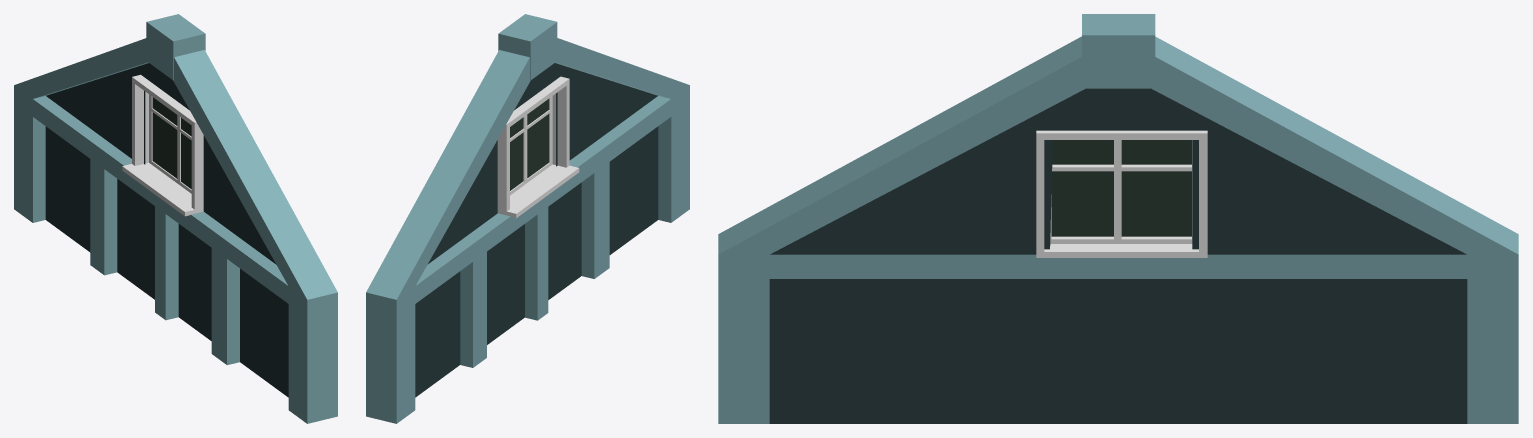
The model's file is SM A Window End.fbx.
3 views of the same model, side by side, from view 1: azimuth 30°, elevation 25°; view 2: azimuth 150°, elevation 25°; view 3: azimuth 270°, elevation 25° (orthographic). The views are drawn at different scales.
Parts seen in each view (by area): view 1: SM_Attic_Window_End, WindowFrame5, Beam1, SM_Window_Glass2; view 2: SM_Attic_Window_End, WindowFrame5, Beam1, SM_Window_Glass2; view 3: SM_Attic_Window_End, SM_Window_Glass2, WindowFrame5, Beam1.
Boxes of the visible parts, x1,y1,x2,y2 form: SM_Attic_Window_End: (14, 38, 337, 423); WindowFrame5: (122, 74, 203, 216); Beam1: (146, 14, 205, 80); SM_Window_Glass2: (152, 97, 191, 188); SM_Attic_Window_End: (366, 38, 689, 423); WindowFrame5: (497, 76, 579, 218); Beam1: (498, 14, 557, 80); SM_Window_Glass2: (510, 99, 548, 190); SM_Attic_Window_End: (718, 36, 1518, 423); SM_Window_Glass2: (1051, 140, 1191, 236); WindowFrame5: (1036, 130, 1207, 257); Beam1: (1082, 14, 1155, 88).
Size of the model in its own units: 47.88 by 322 by 600.
